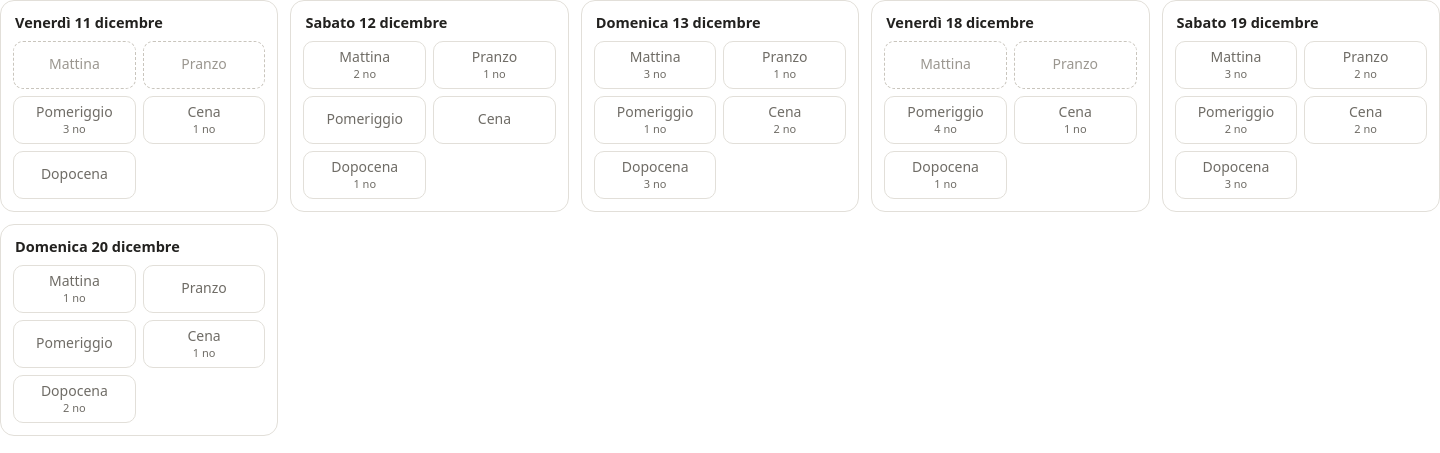
VoteTable, looking only › offers no way to mark to a visitor, and names who is missing on a tap
This screenshot has width=1440, height=453.
Step 1. Click the button with aria-label "sabato 12, mattina: non possono Anna e Paolo" → (365, 65), box x1=303 y1=41 x2=426 y2=89
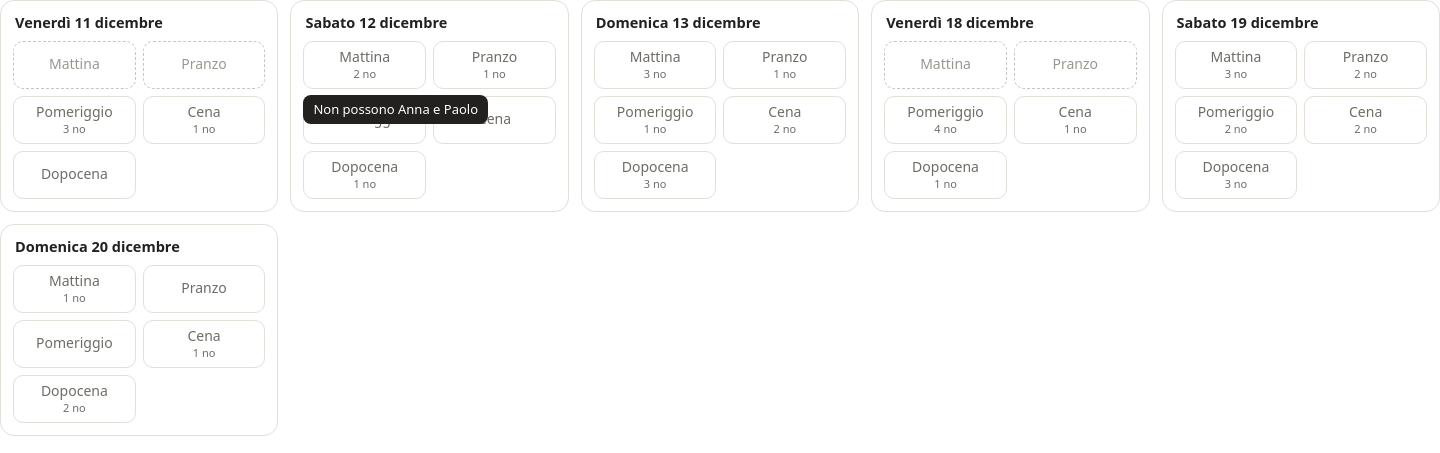
Check: the message reads "Non possono Anna e Paolo", box x1=303 y1=95 x2=488 y2=124
Step 2. Click the button with aria-label "sabato 12, mattina: non possono Anna e Paolo" → (365, 65), box x1=303 y1=41 x2=426 y2=89
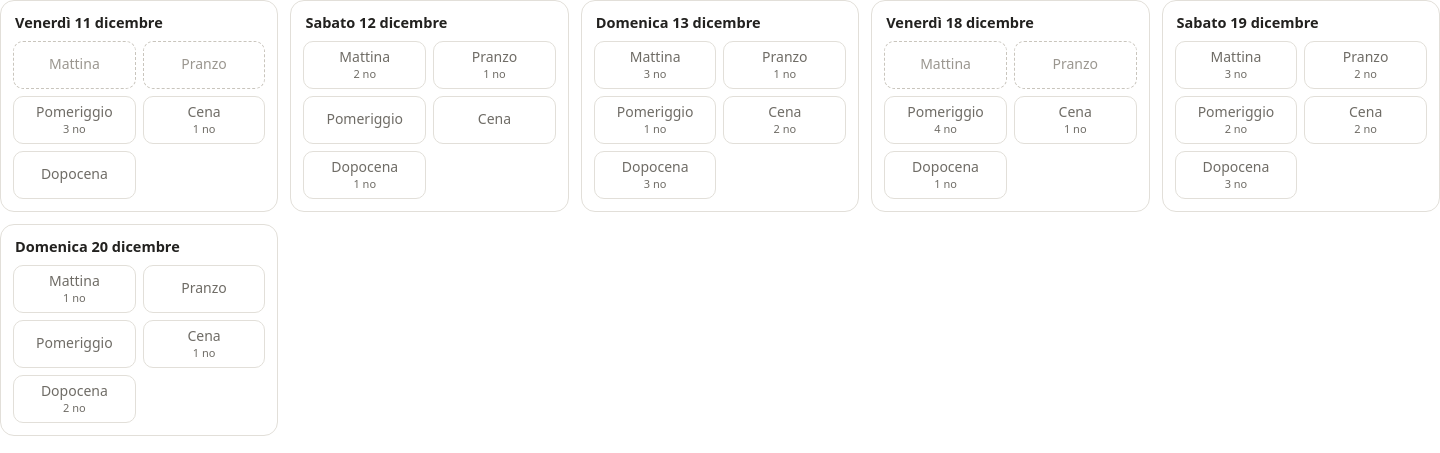
Check: the message "Non possono Anna e Paolo" is gone
